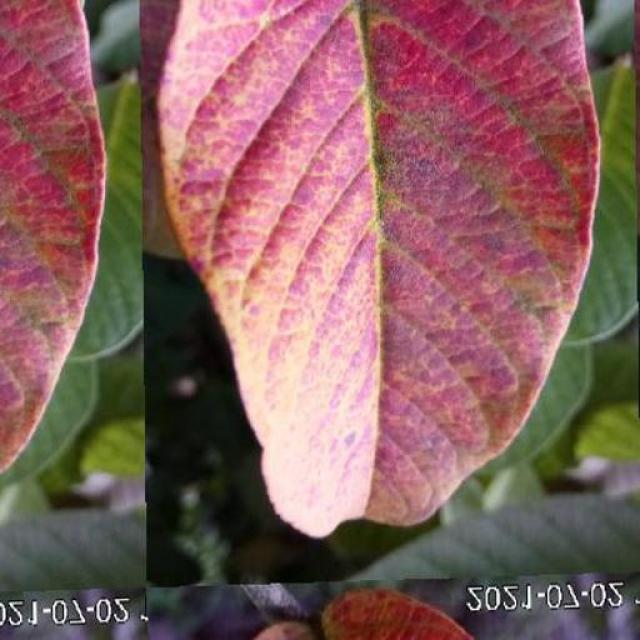Rust: (144, 0, 600, 536)
